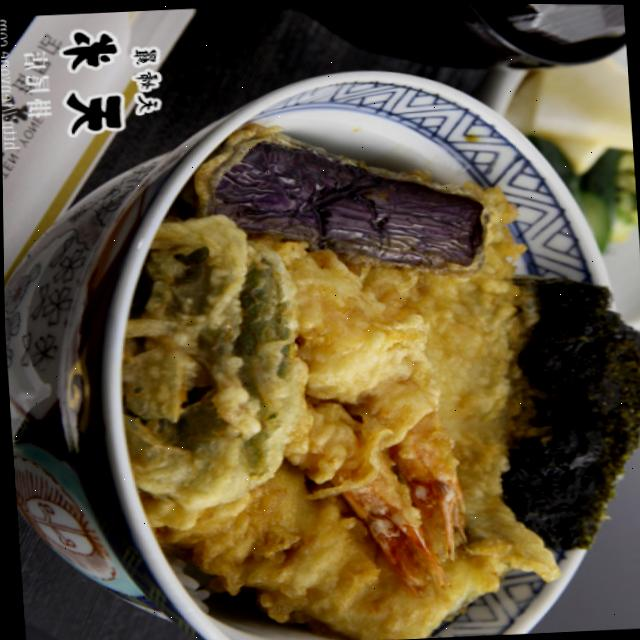熟制海鲜: (162, 46, 640, 640)
